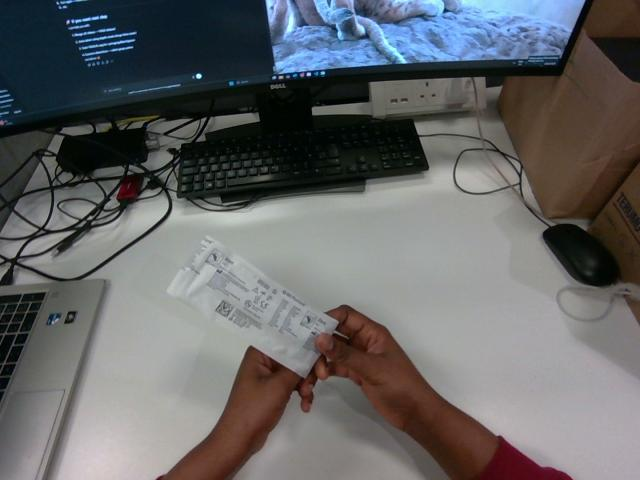syringe: (168, 236, 337, 376)
